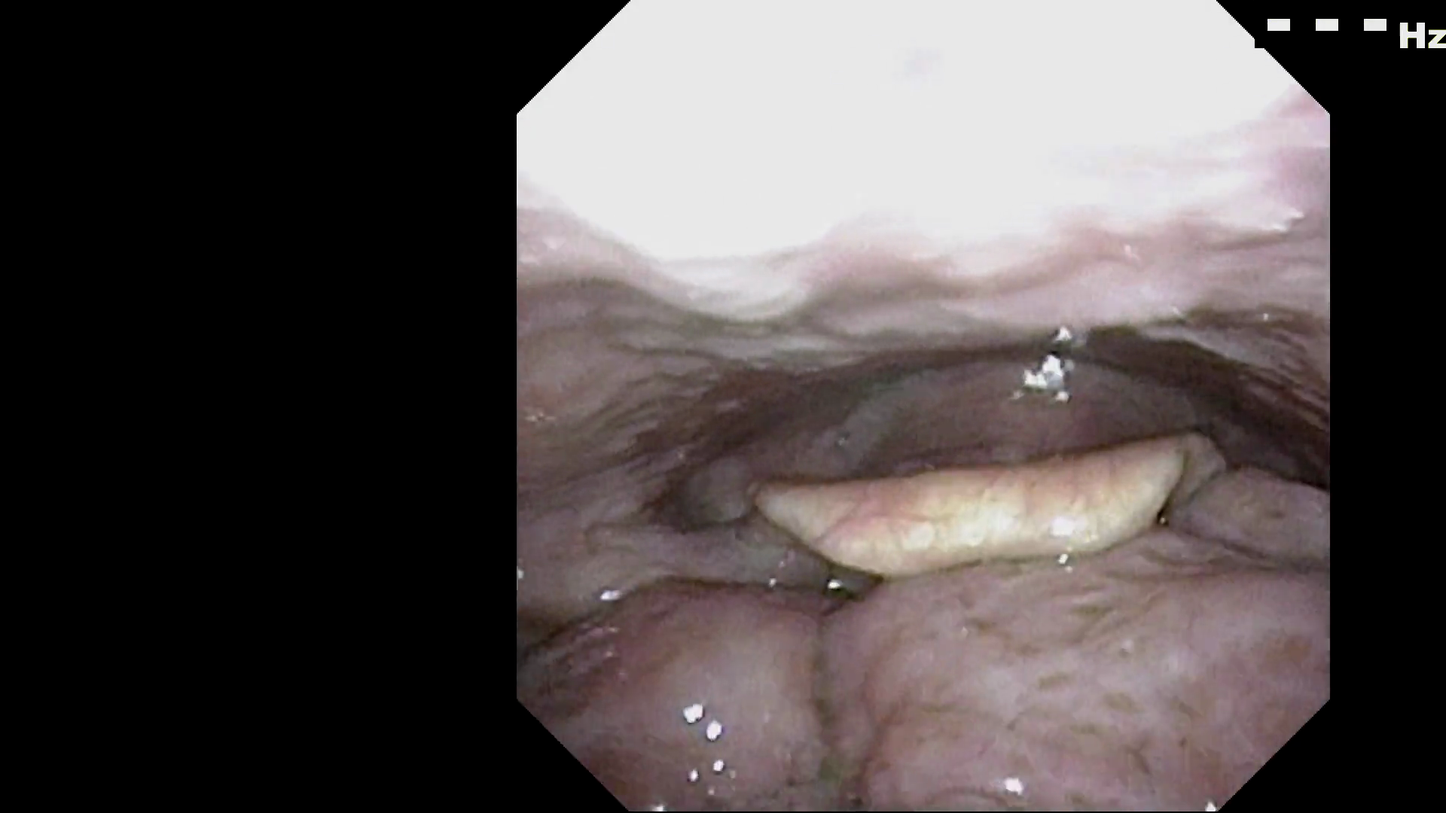epiglottis: (714, 477, 1255, 616)
